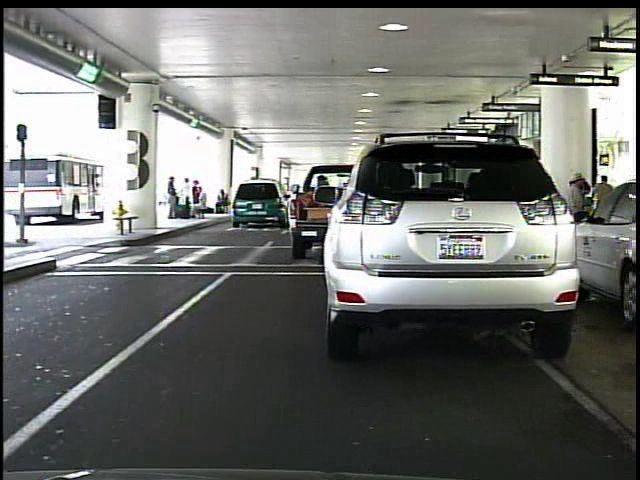person: (564, 169, 591, 254), (594, 173, 616, 231), (162, 169, 182, 222)
